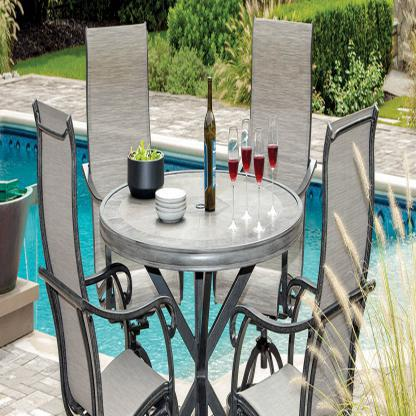table: (95, 160, 306, 415)
